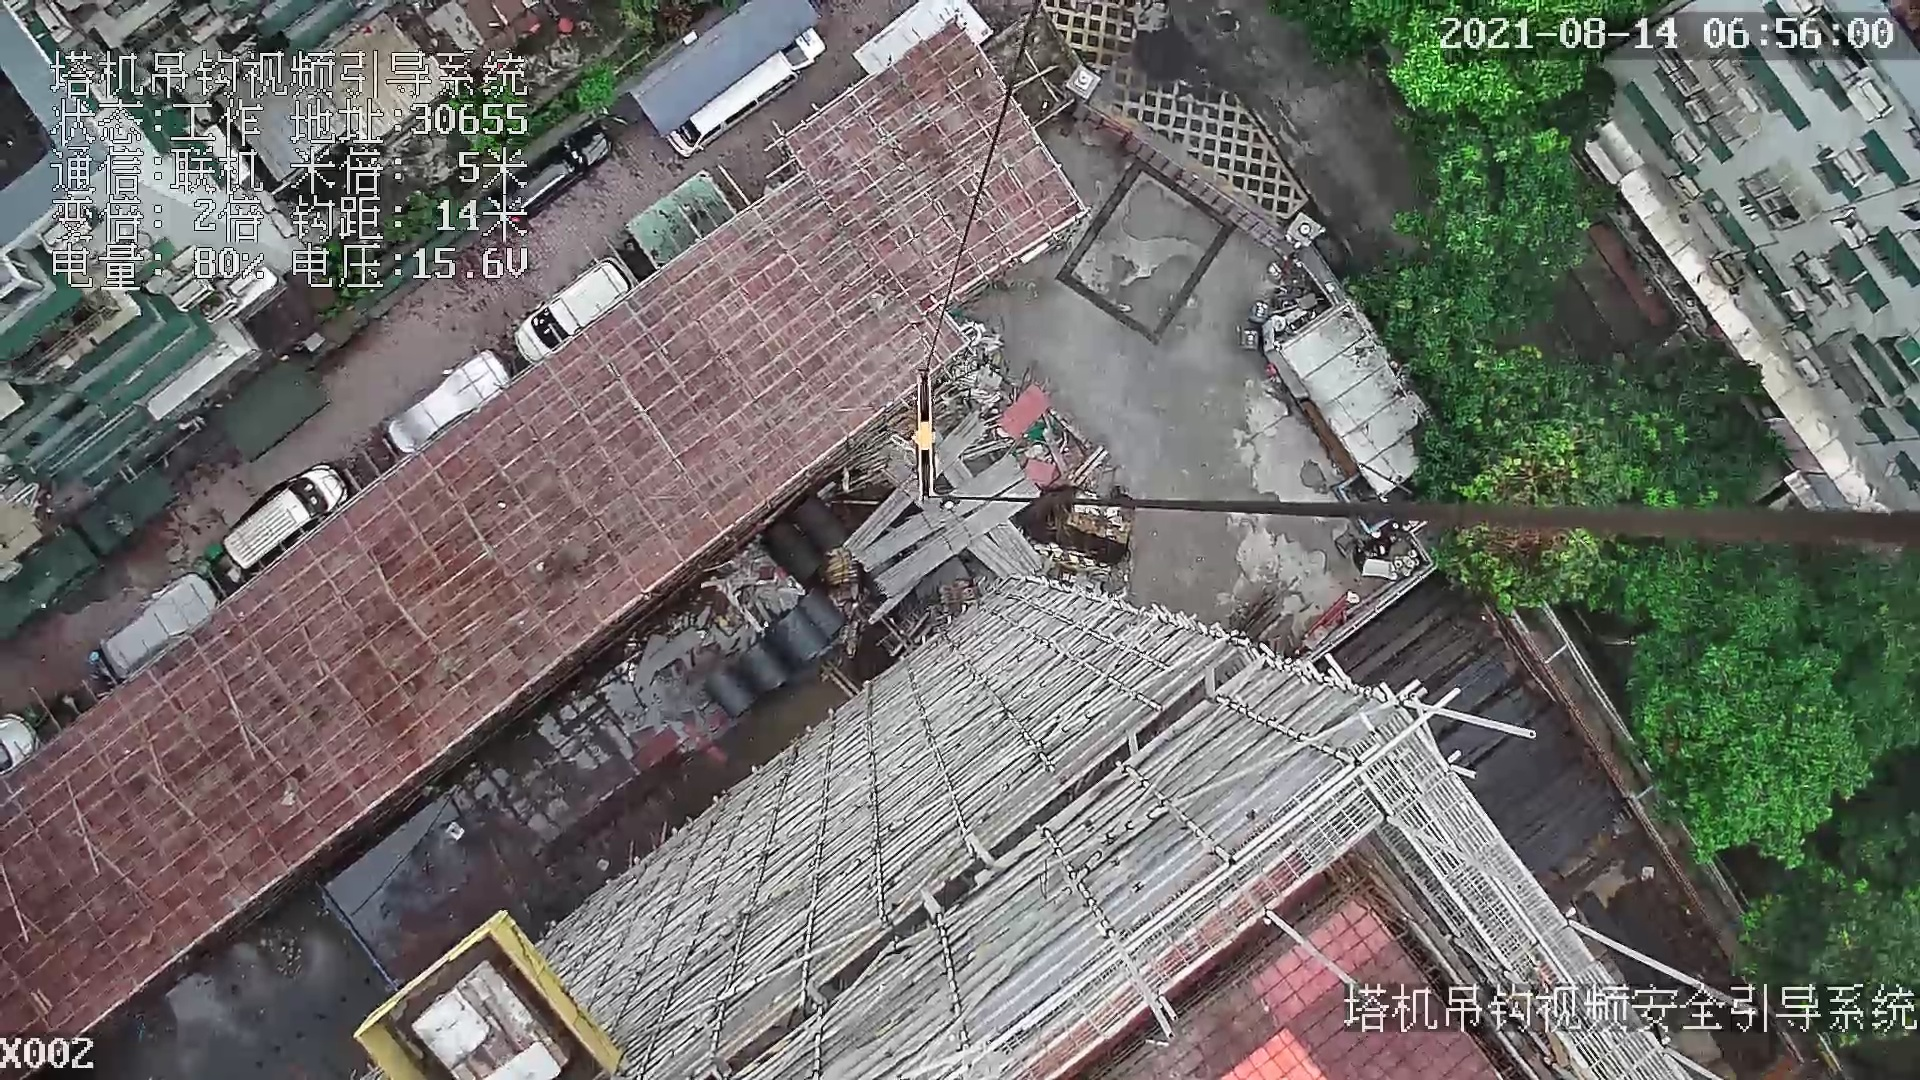board: (411, 961, 569, 1080)
helmet: (944, 501, 953, 509)
hook: (906, 364, 956, 503)
person: (937, 495, 961, 514)
rebar: (842, 412, 986, 554), (857, 454, 1025, 571), (876, 479, 1039, 598), (988, 520, 1040, 573), (967, 533, 1025, 577)
